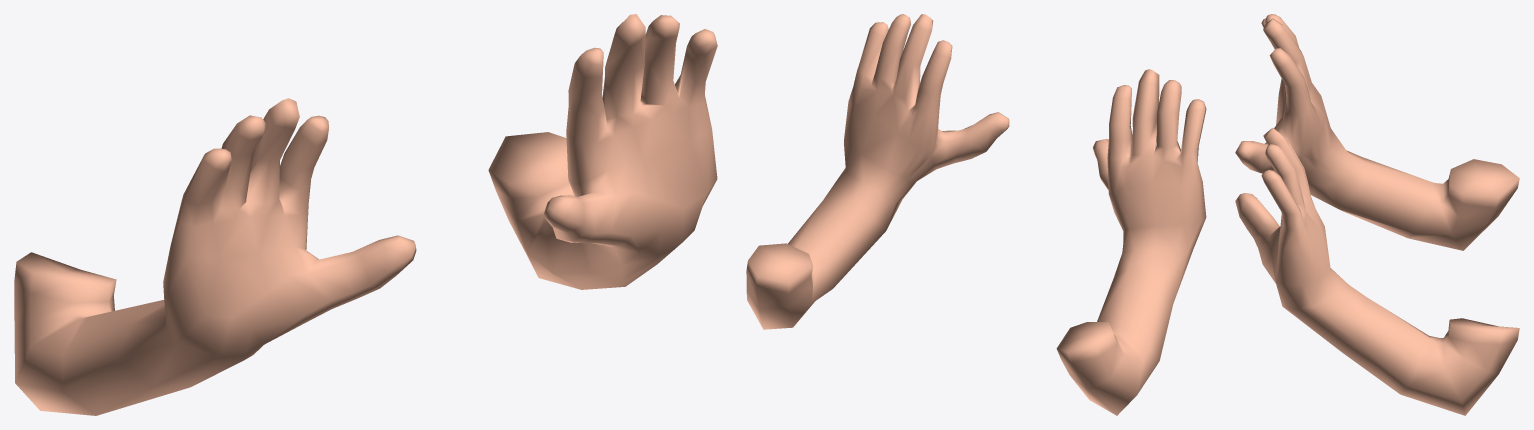
The model's file is AF_M_Arm_14.FBX.
3 renders of one model, left to right at view 1: azimuth 30°, elevation 25°; view 2: azimuth 150°, elevation 25°; view 3: azimuth 270°, elevation 25°, orthographic. The views are drawn at different scales.
Visible parts, largest first — view 1: AF_M_Arm_14; view 2: AF_M_Arm_14; view 3: AF_M_Arm_14.
Boxes of the visible parts, x1=… form: AF_M_Arm_14: x1=14, y1=14, x2=717, y2=415; AF_M_Arm_14: x1=746, y1=14, x2=1206, y2=415; AF_M_Arm_14: x1=1235, y1=14, x2=1519, y2=415.
Size of the model in its own units: 483 by 307 by 308.
Materials: 1 (1 with a texture image).
